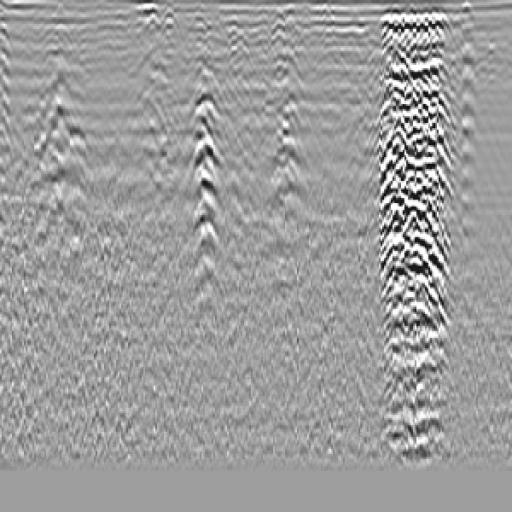non-metallic: (368, 9, 458, 444), (27, 56, 97, 249), (182, 83, 232, 288), (263, 72, 316, 258)
